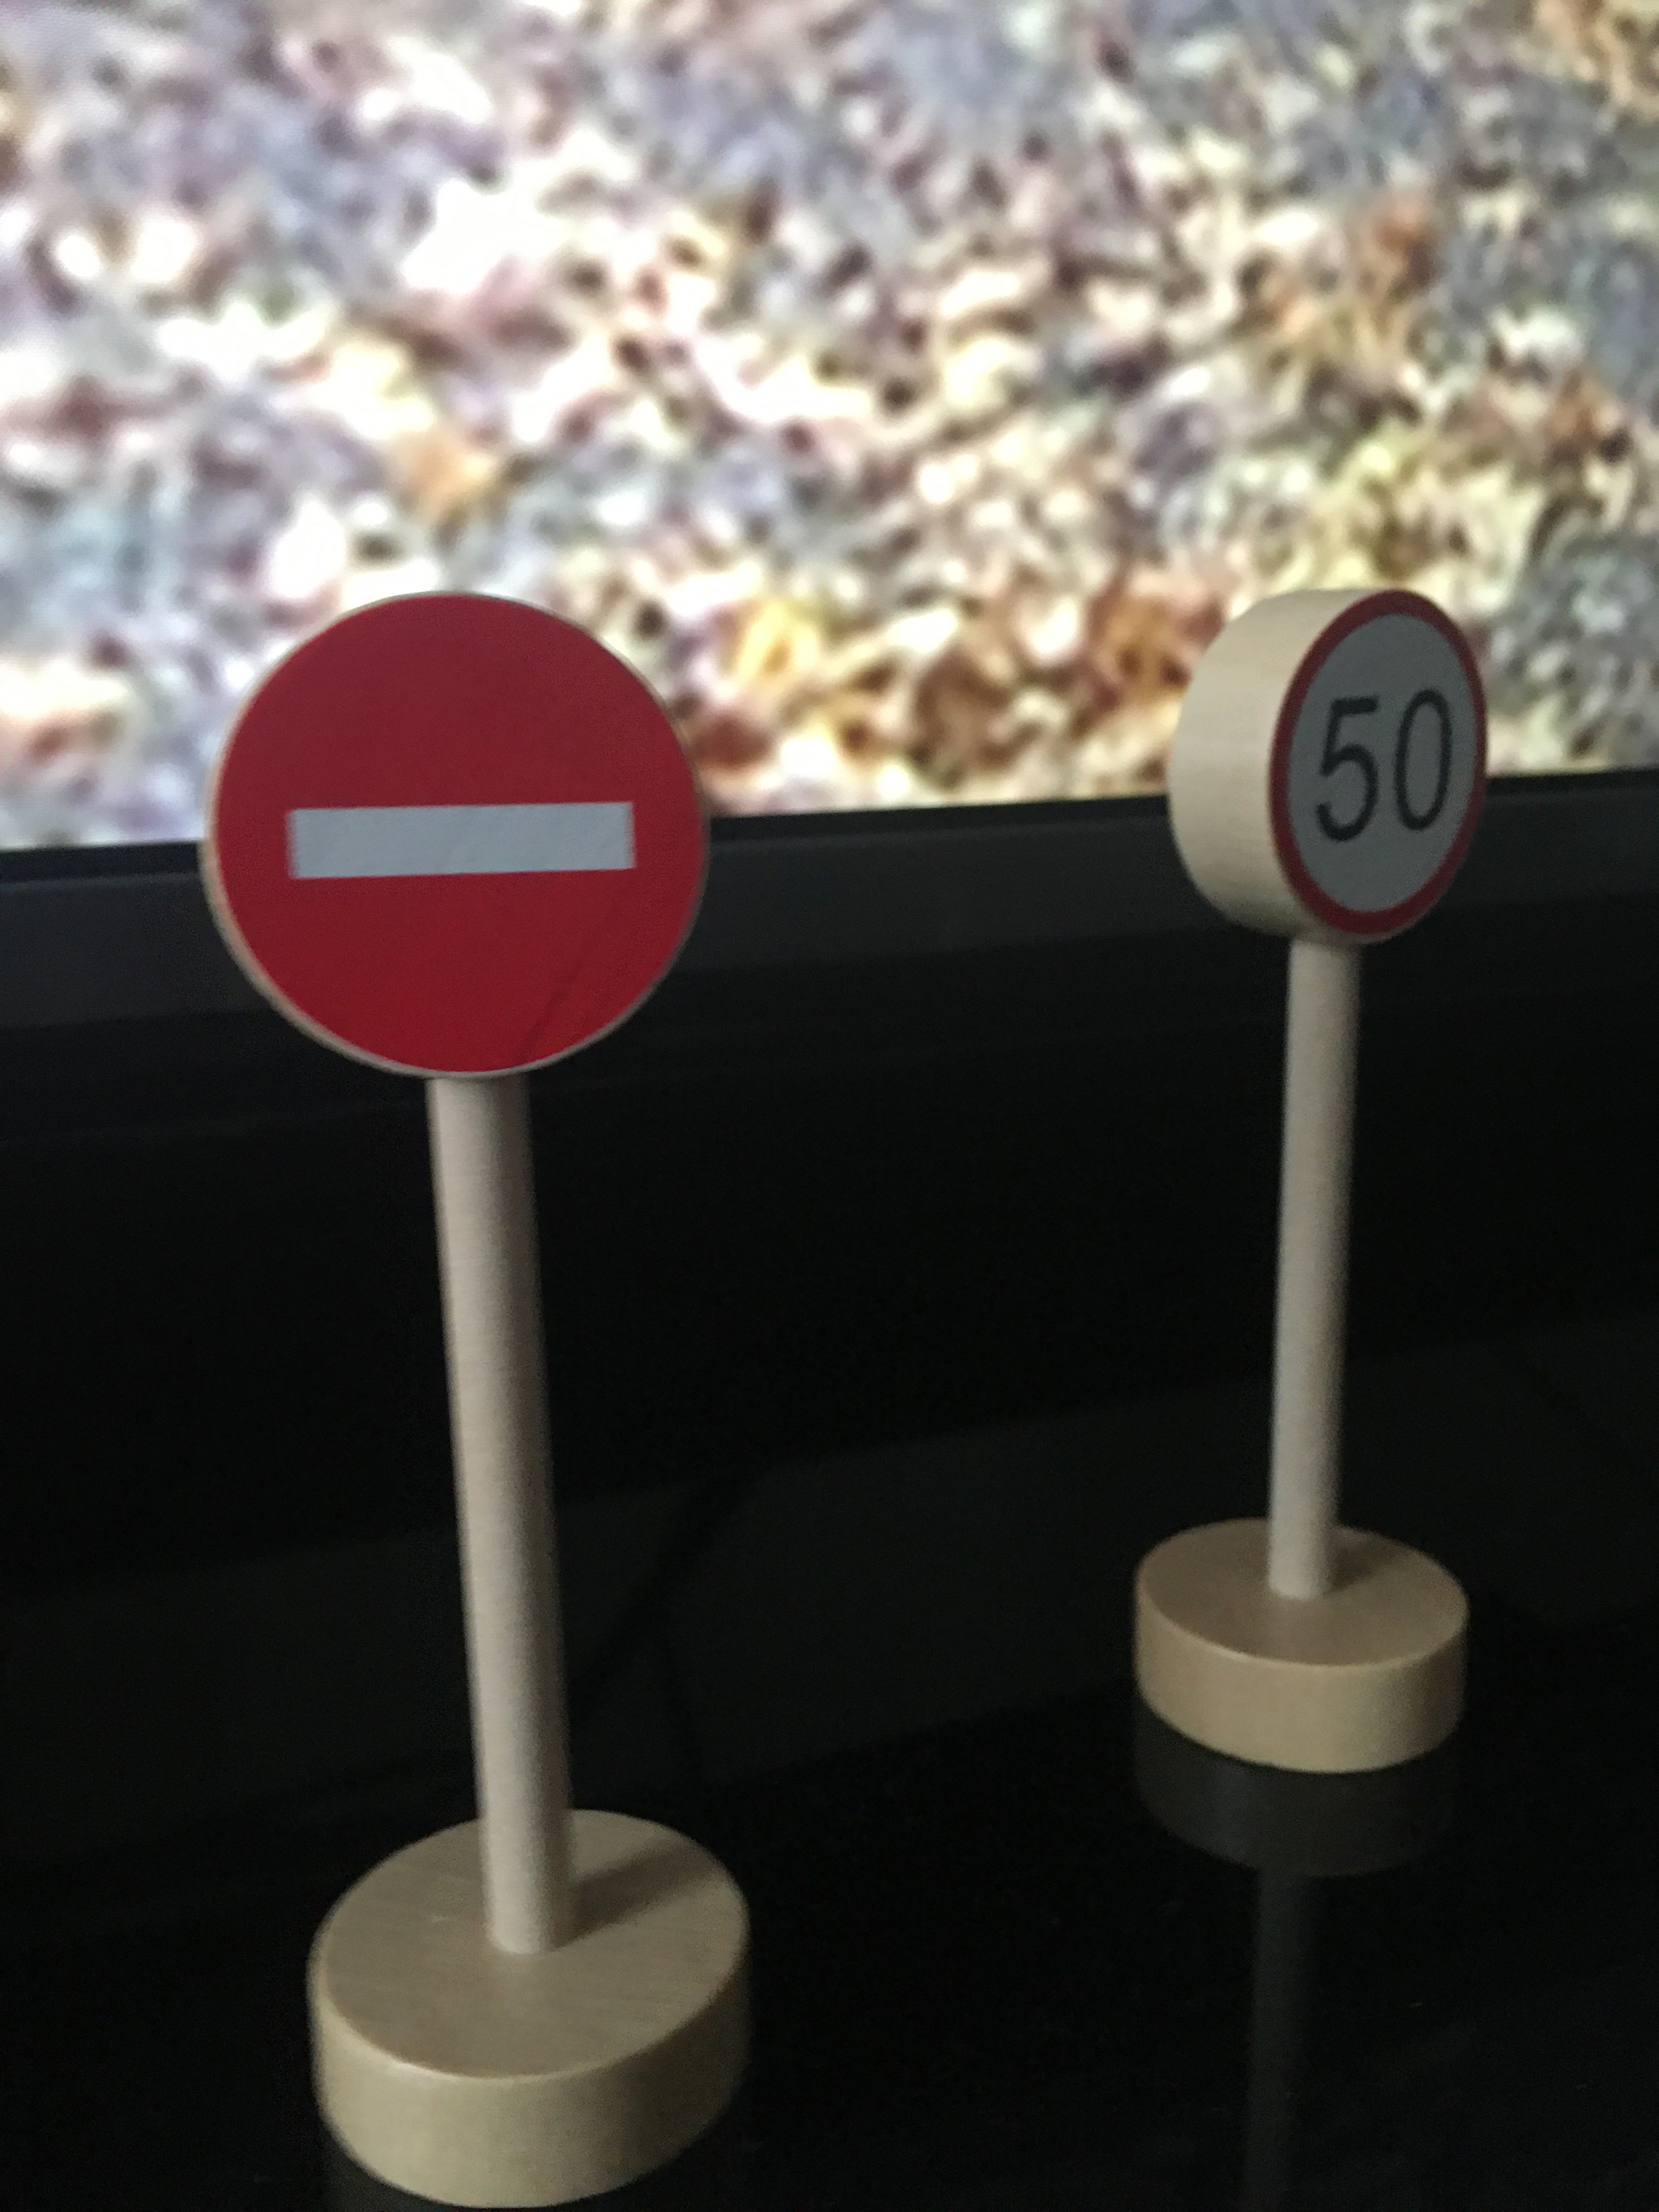Traffic_Sign_50: (1281, 589, 1474, 930)
Traffic_Sign_No_Entry: (200, 592, 716, 1078)
